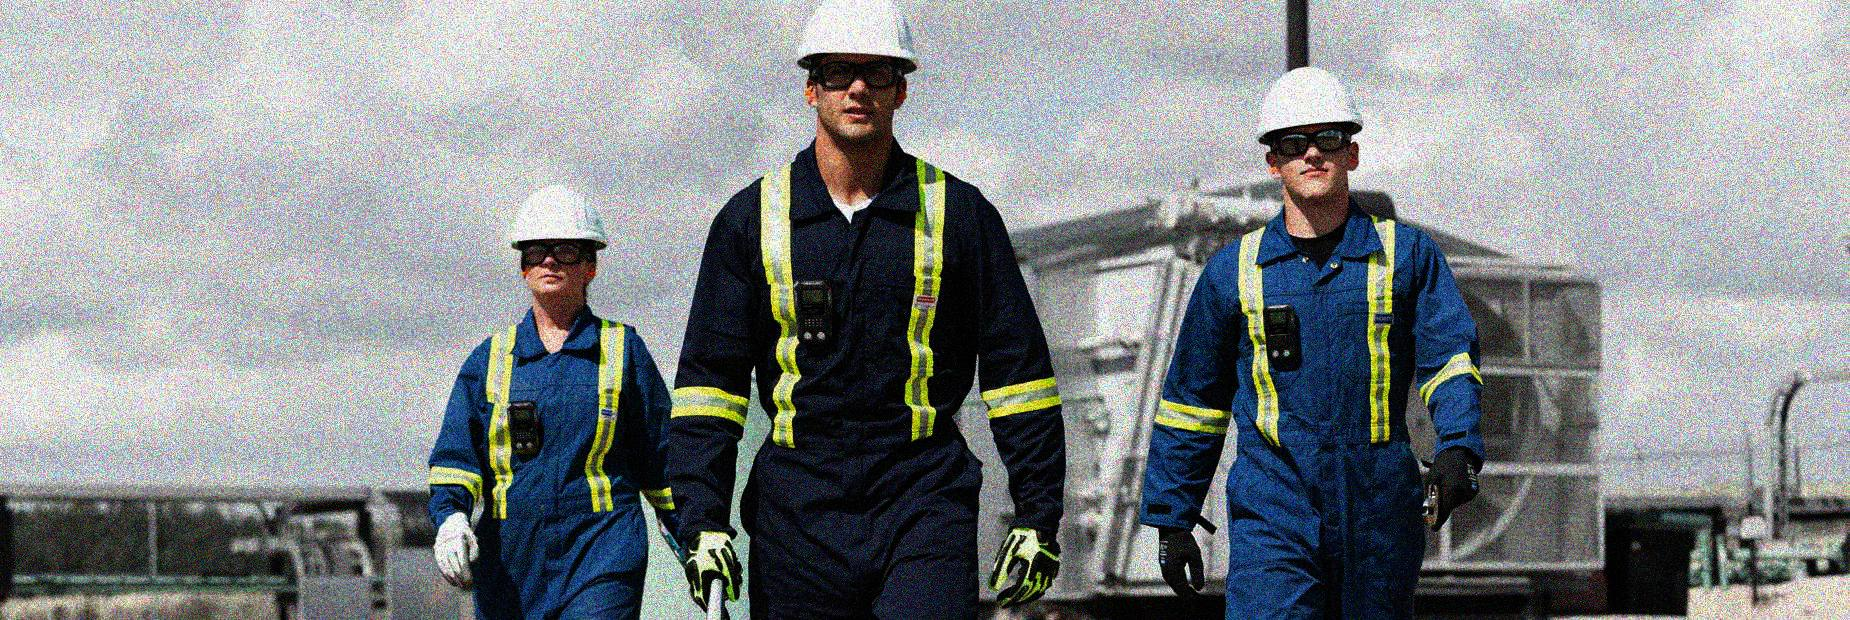helmet: (789, 1, 921, 146), (1257, 64, 1365, 205), (509, 184, 615, 296)
